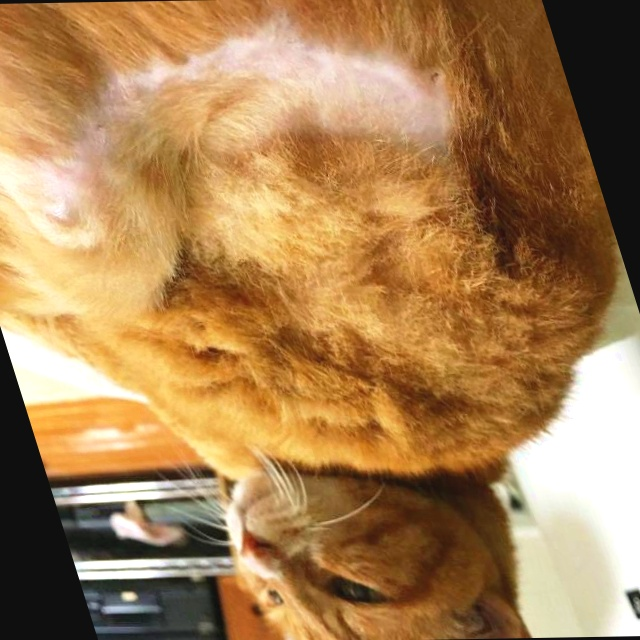hairloss: (202, 35, 441, 151)
